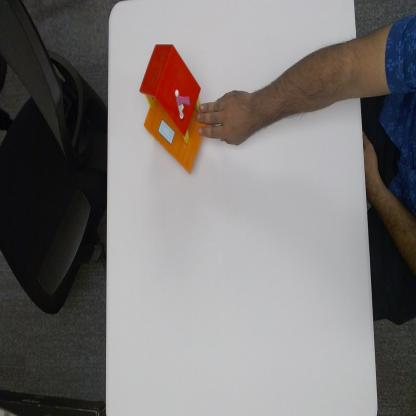Arm: (258, 43, 362, 134)
Hand: (200, 32, 254, 145)
House: (140, 43, 206, 173)
